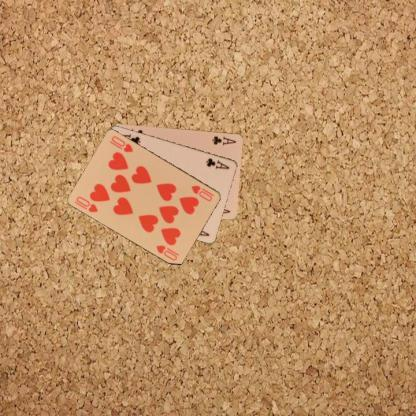10h: (188, 182, 216, 203), (74, 193, 100, 214)
Ac: (210, 133, 237, 147), (204, 156, 231, 170)
